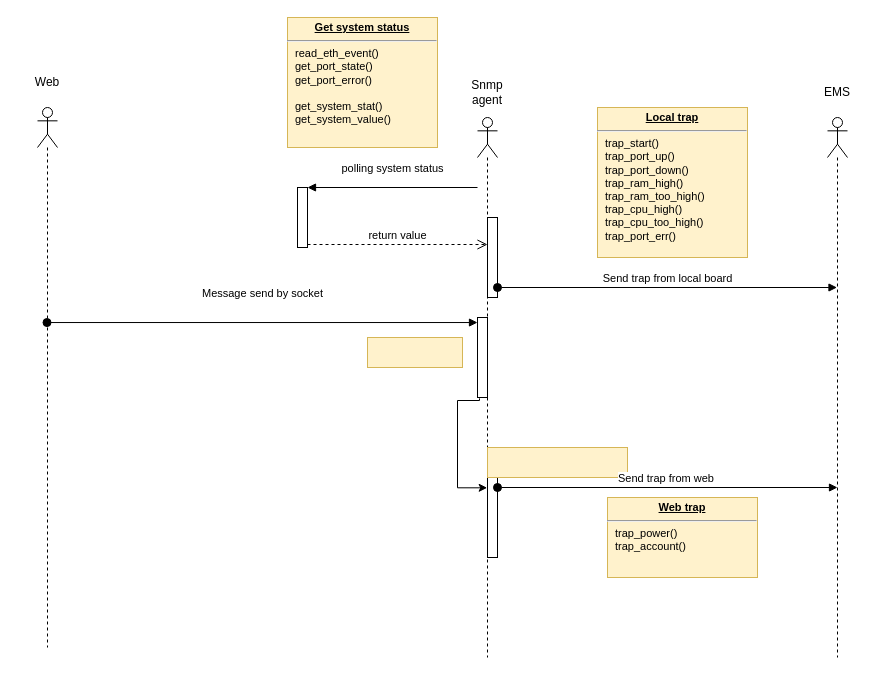
Image size: 884x675. Some labels were removed from this diagram. Here are the shapes that lost their labels. From the top down, the centre of each, then its label:
At pixel 414 352: "socket_handle()".
At pixel 557 462: "create_trap_from_buf()".
